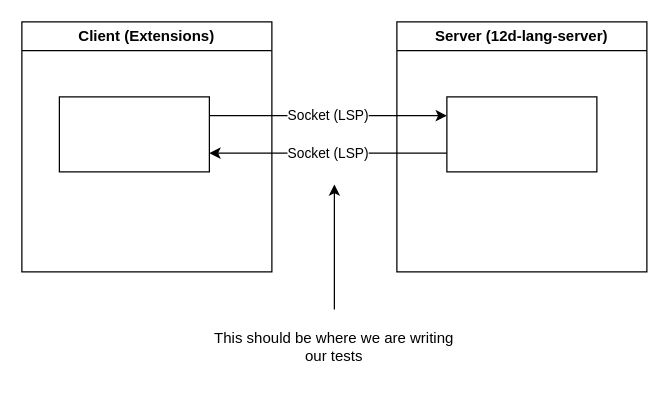
Some shapes in this 669 by 406 pixel diagram are drawn without their labels. The shapes that lost their labels are listed below. From the top down, each one's centre as x and y in pixels, then its label:
(133,134): Client
(521,134): Server
